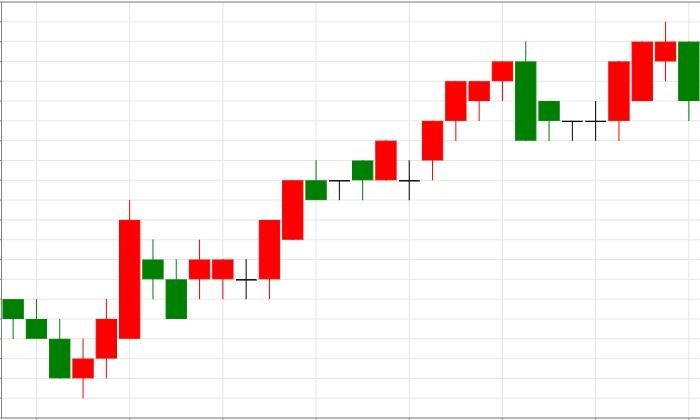bearish_engulfing_fall: (399, 41, 536, 200)
